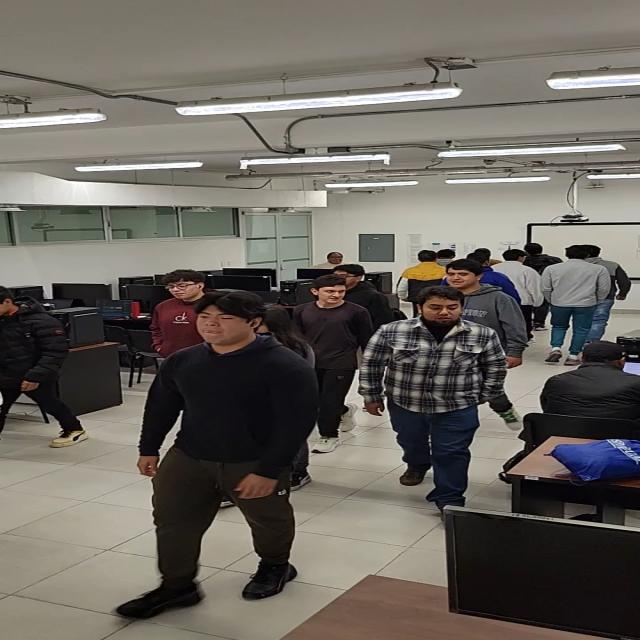Persona: (131, 288, 316, 622), (371, 289, 498, 517), (1, 281, 91, 460), (301, 278, 362, 457), (539, 244, 621, 369), (144, 266, 207, 349), (406, 248, 443, 288)
